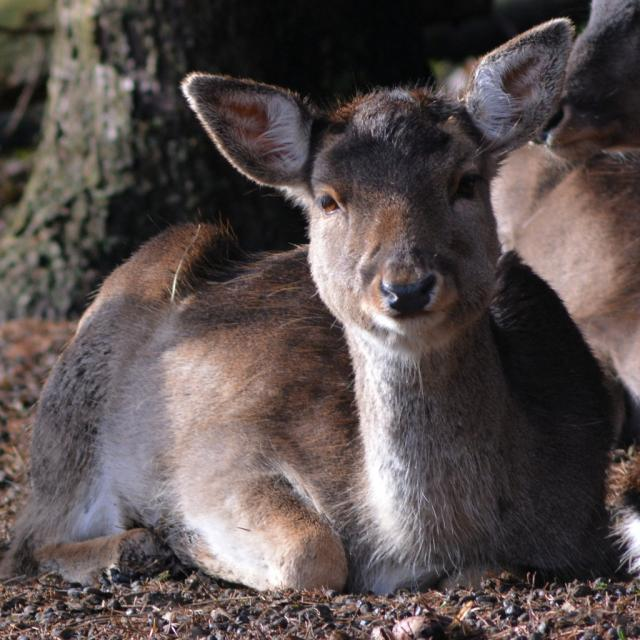Deer: (0, 15, 614, 592), (423, 0, 639, 580)
